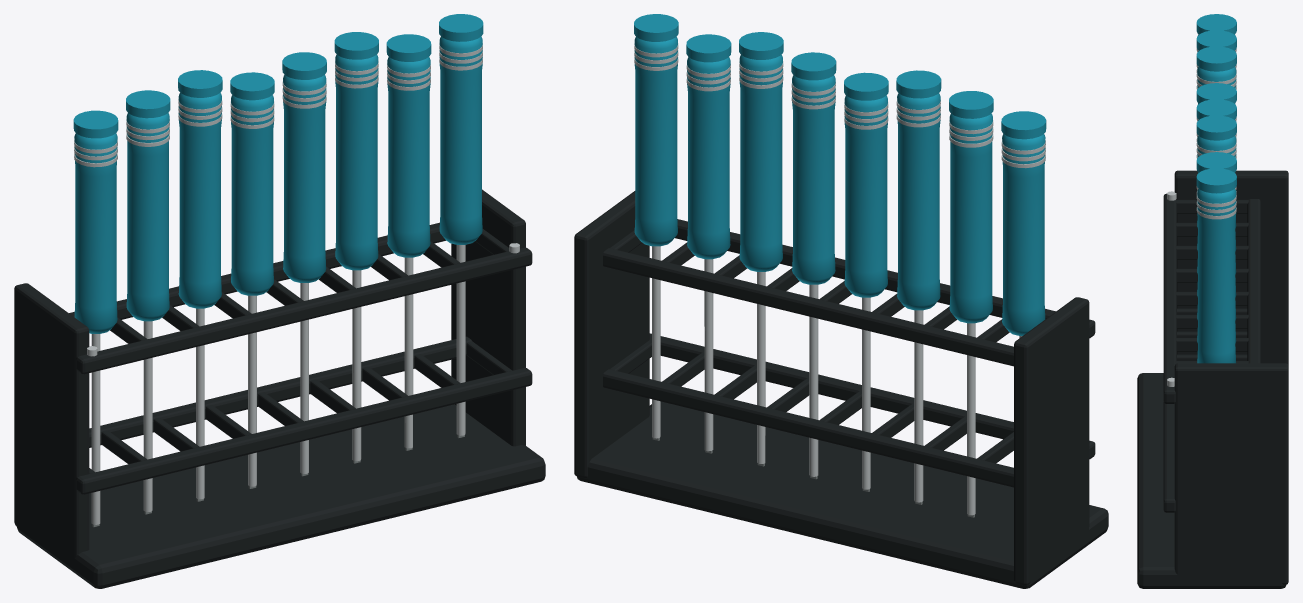
The picture shows the model from 3 angles, left to right: view 1: azimuth 30°, elevation 25°; view 2: azimuth 150°, elevation 25°; view 3: azimuth 270°, elevation 25°; orthographic projection. The views are drawn at different scales.
Visible parts, largest first — view 1: Black rack base, Blue anodised grip 00, Driver 00 polished shaft; view 2: Black rack base, Blue anodised grip 00, Driver 00 polished shaft; view 3: Black rack base, Blue anodised grip 00, Driver 00 polished shaft.
Part boxes in pixels (<box>): Black rack base: <box>14,189,545,588</box>; Blue anodised grip 00: <box>73,14,483,333</box>; Driver 00 polished shaft: <box>74,43,519,524</box>; Black rack base: <box>574,191,1108,588</box>; Blue anodised grip 00: <box>634,14,1046,335</box>; Driver 00 polished shaft: <box>634,43,1045,515</box>; Black rack base: <box>1137,170,1288,588</box>; Blue anodised grip 00: <box>1196,14,1236,363</box>; Driver 00 polished shaft: <box>1167,48,1236,386</box>.
Bounding box in the file's own units: 0.314 × 0.296 × 0.101.
